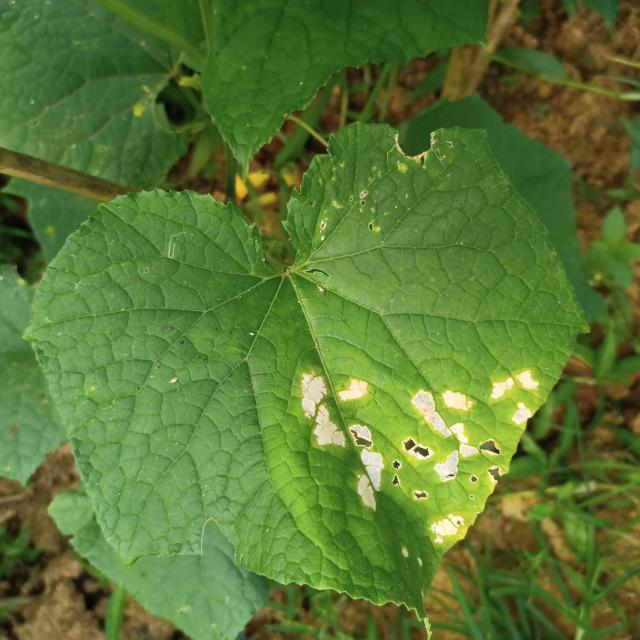disease_cucumber: (288, 358, 556, 561)
